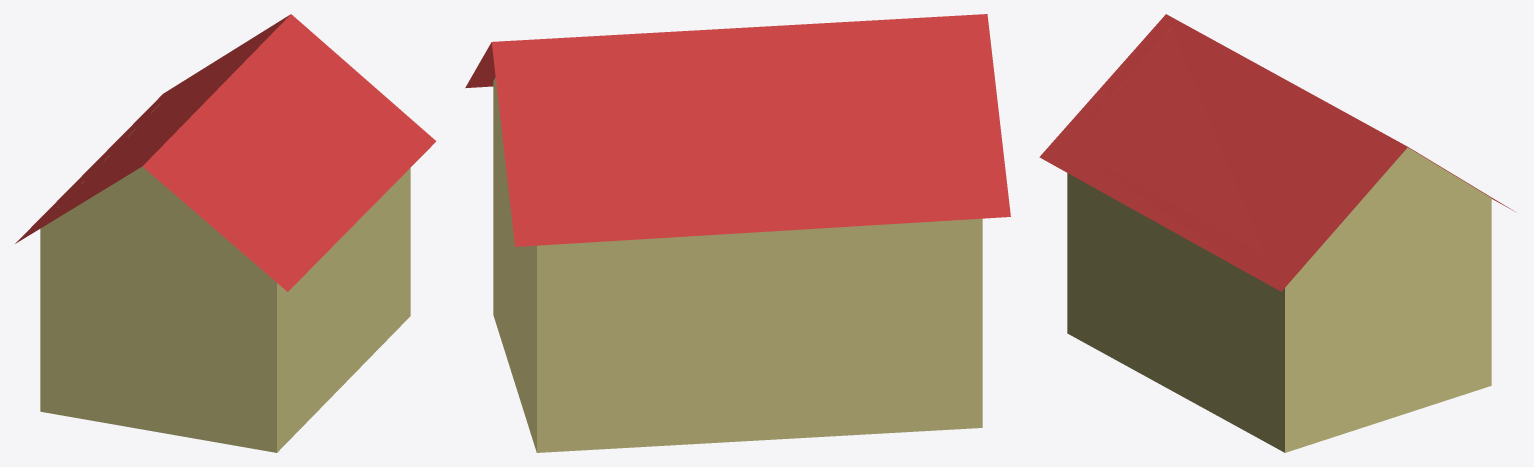
The picture shows the model from 3 angles, left to right: view 1: azimuth 30°, elevation 25°; view 2: azimuth 150°, elevation 25°; view 3: azimuth 270°, elevation 25°; orthographic projection. The views are drawn at different scales.
Size of the model in its own units: 18.6 by 17.94 by 11.4.
